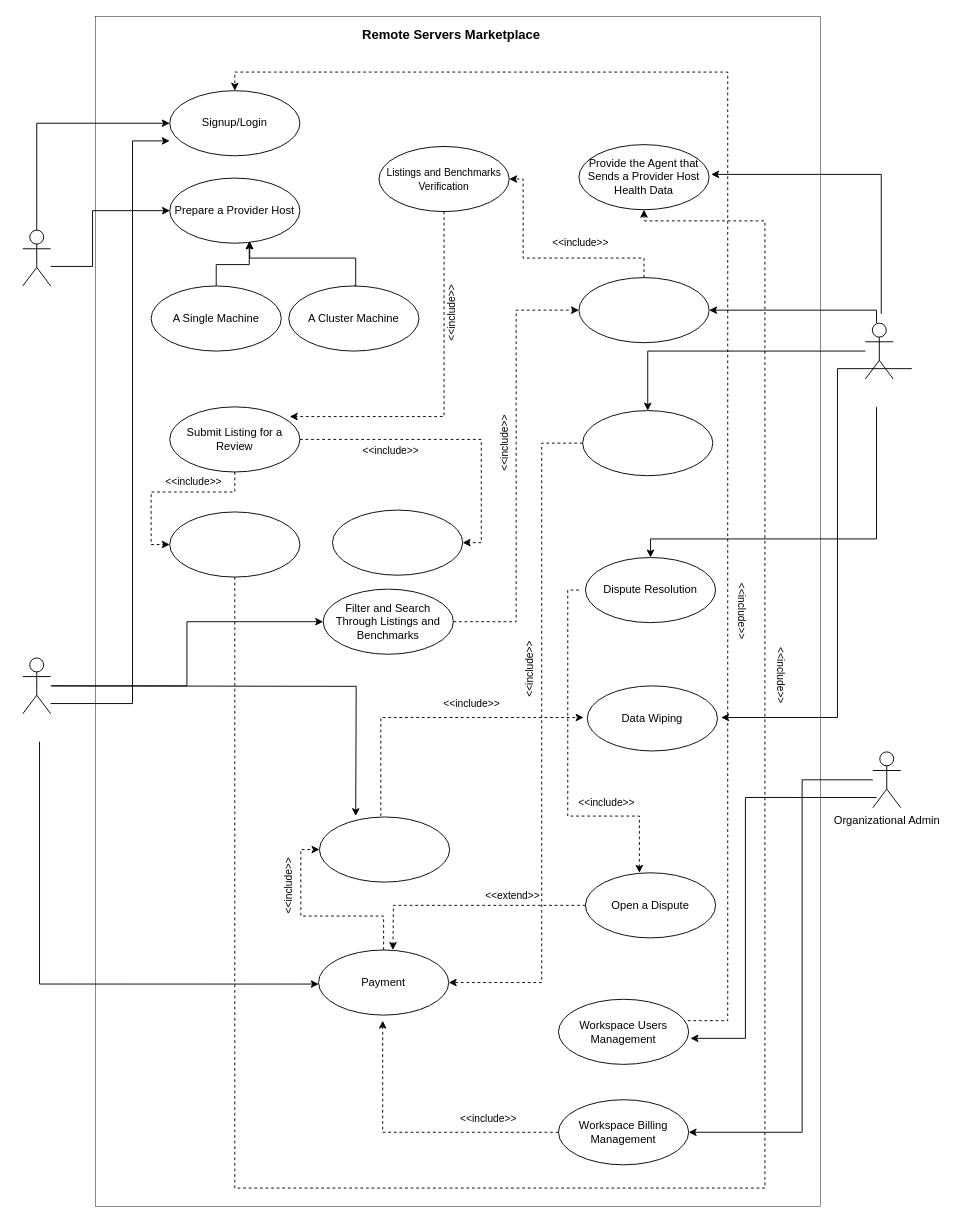
This 956x1223 diagram has some shape labels left out. The box of each missing label's shape, as (x1, y1, x2, y2) in pixels:
(Platform) Admin: (864, 322, 893, 379)
Book a Listing: (319, 816, 450, 882)
Buyer: (22, 657, 51, 714)
Inject the Agent that Sends a Provider Host Health Data: (169, 511, 300, 577)
Prepare a Provider Host Specification: (332, 509, 463, 575)
Provider: (22, 229, 51, 286)
Publish Listings and Benchmarks: (578, 277, 709, 343)
Transaction Verification: (582, 410, 713, 476)
